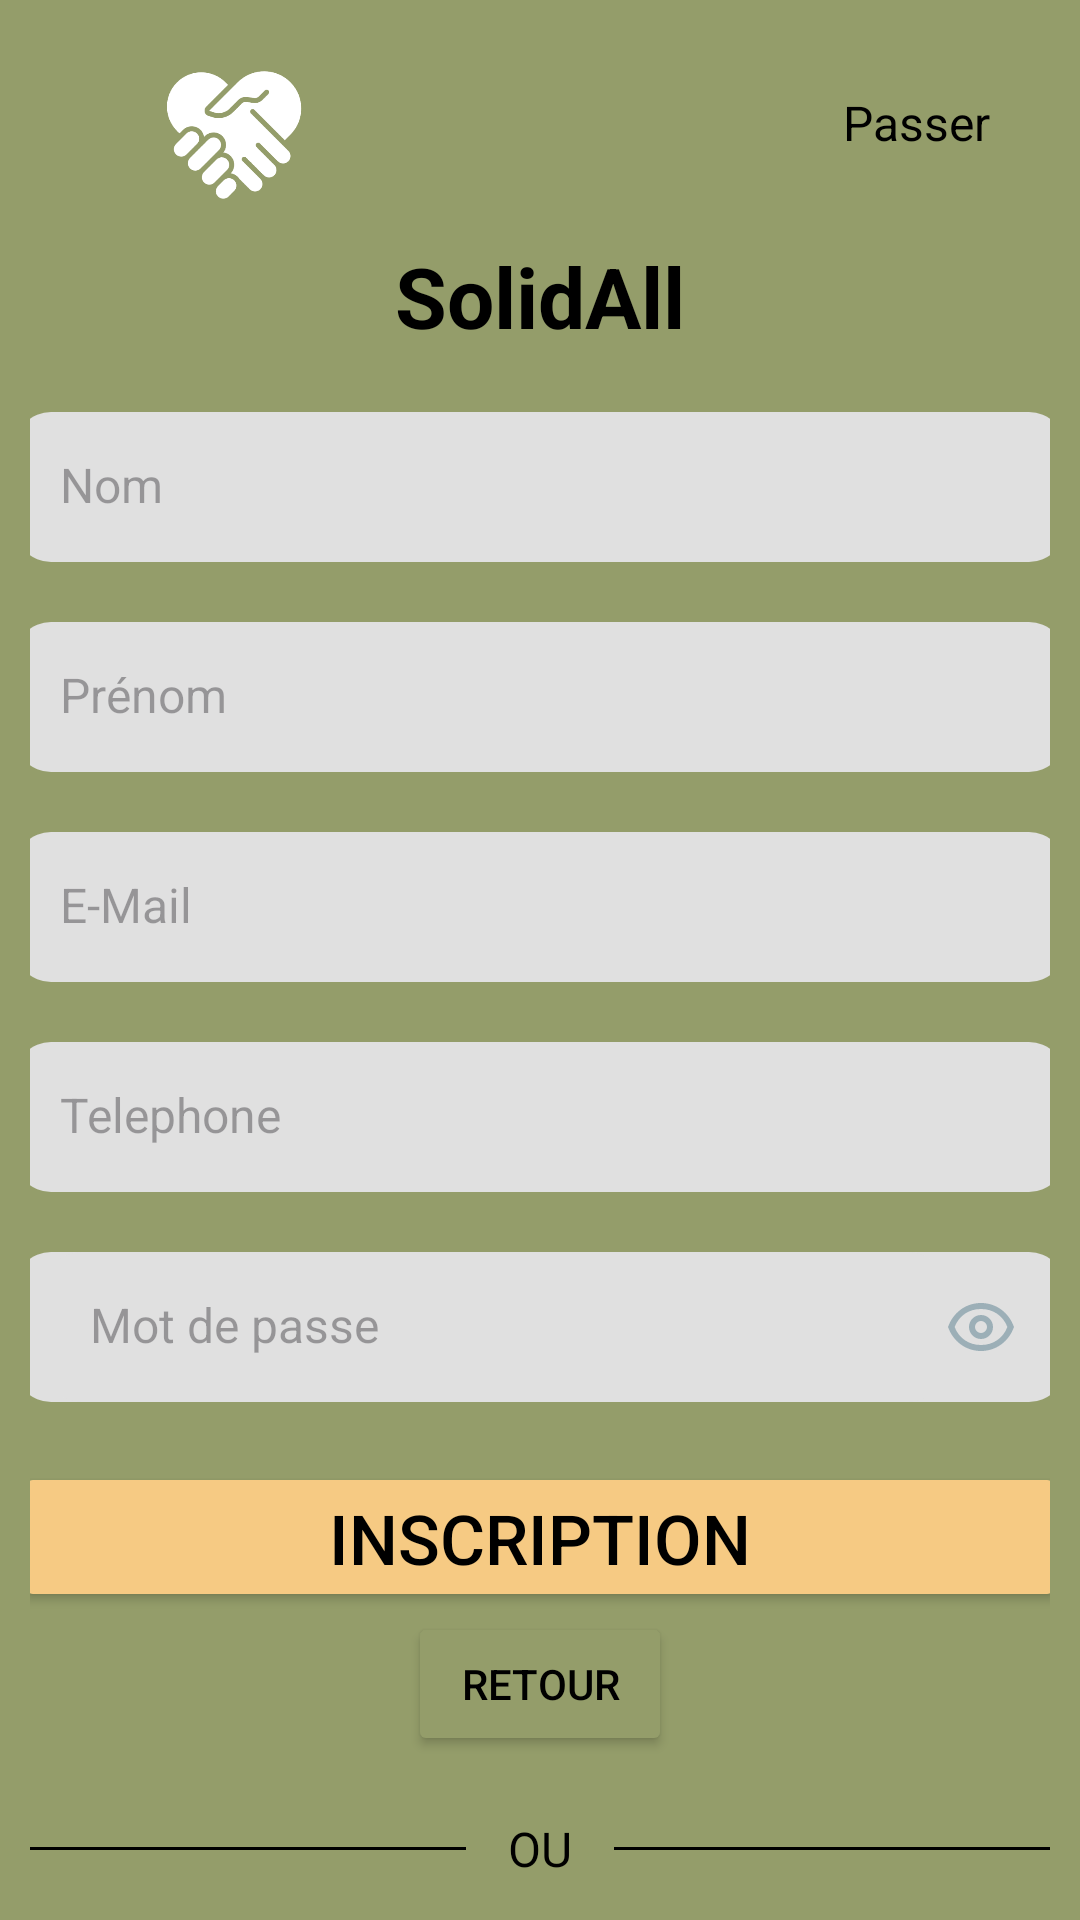

Icon bounding boxes for this 1080 x 1920 phone screenshot, format (x1, y1, x2, y2):
eye: (948, 1303, 1014, 1351)
